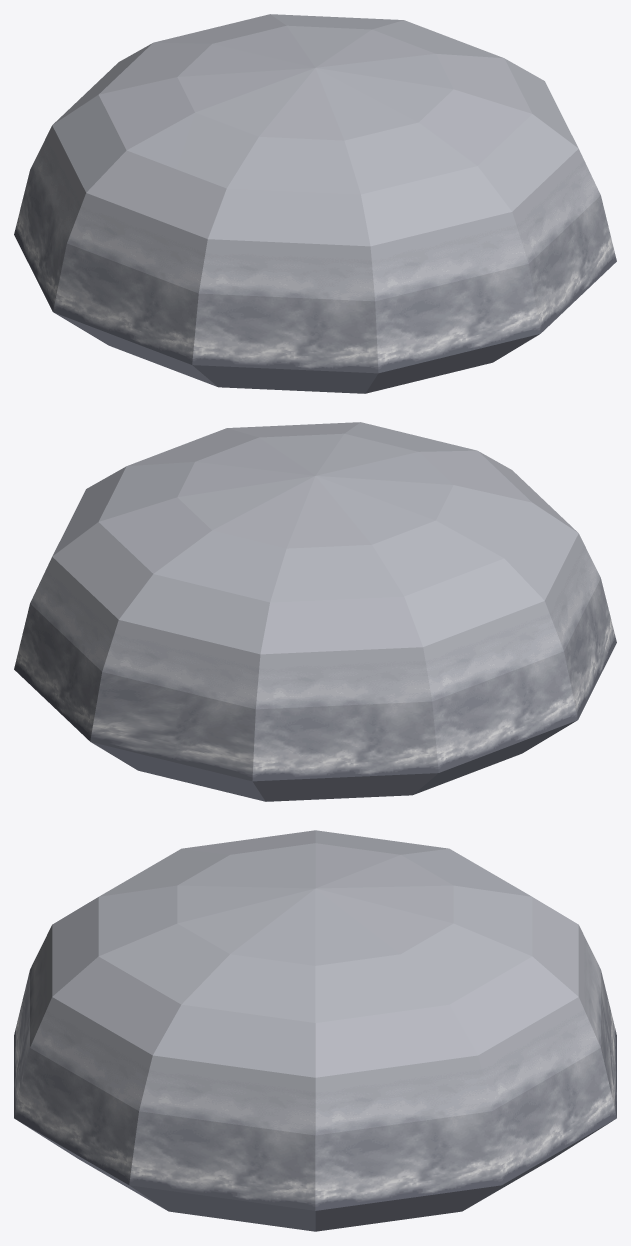
The picture shows the model from 3 angles, top to bottom: view 1: azimuth 30°, elevation 25°; view 2: azimuth 150°, elevation 25°; view 3: azimuth 270°, elevation 25°; orthographic projection. The views are drawn at different scales.
Visible parts, largest first — view 1: mesh00; view 2: mesh00; view 3: mesh00.
Boxes of the visible parts, box(x1,y1,x2,y2) form: mesh00: box(14, 14, 616, 393); mesh00: box(14, 422, 616, 801); mesh00: box(14, 830, 616, 1231).
Size of the model in its own units: 117613 by 57272 by 111856.
